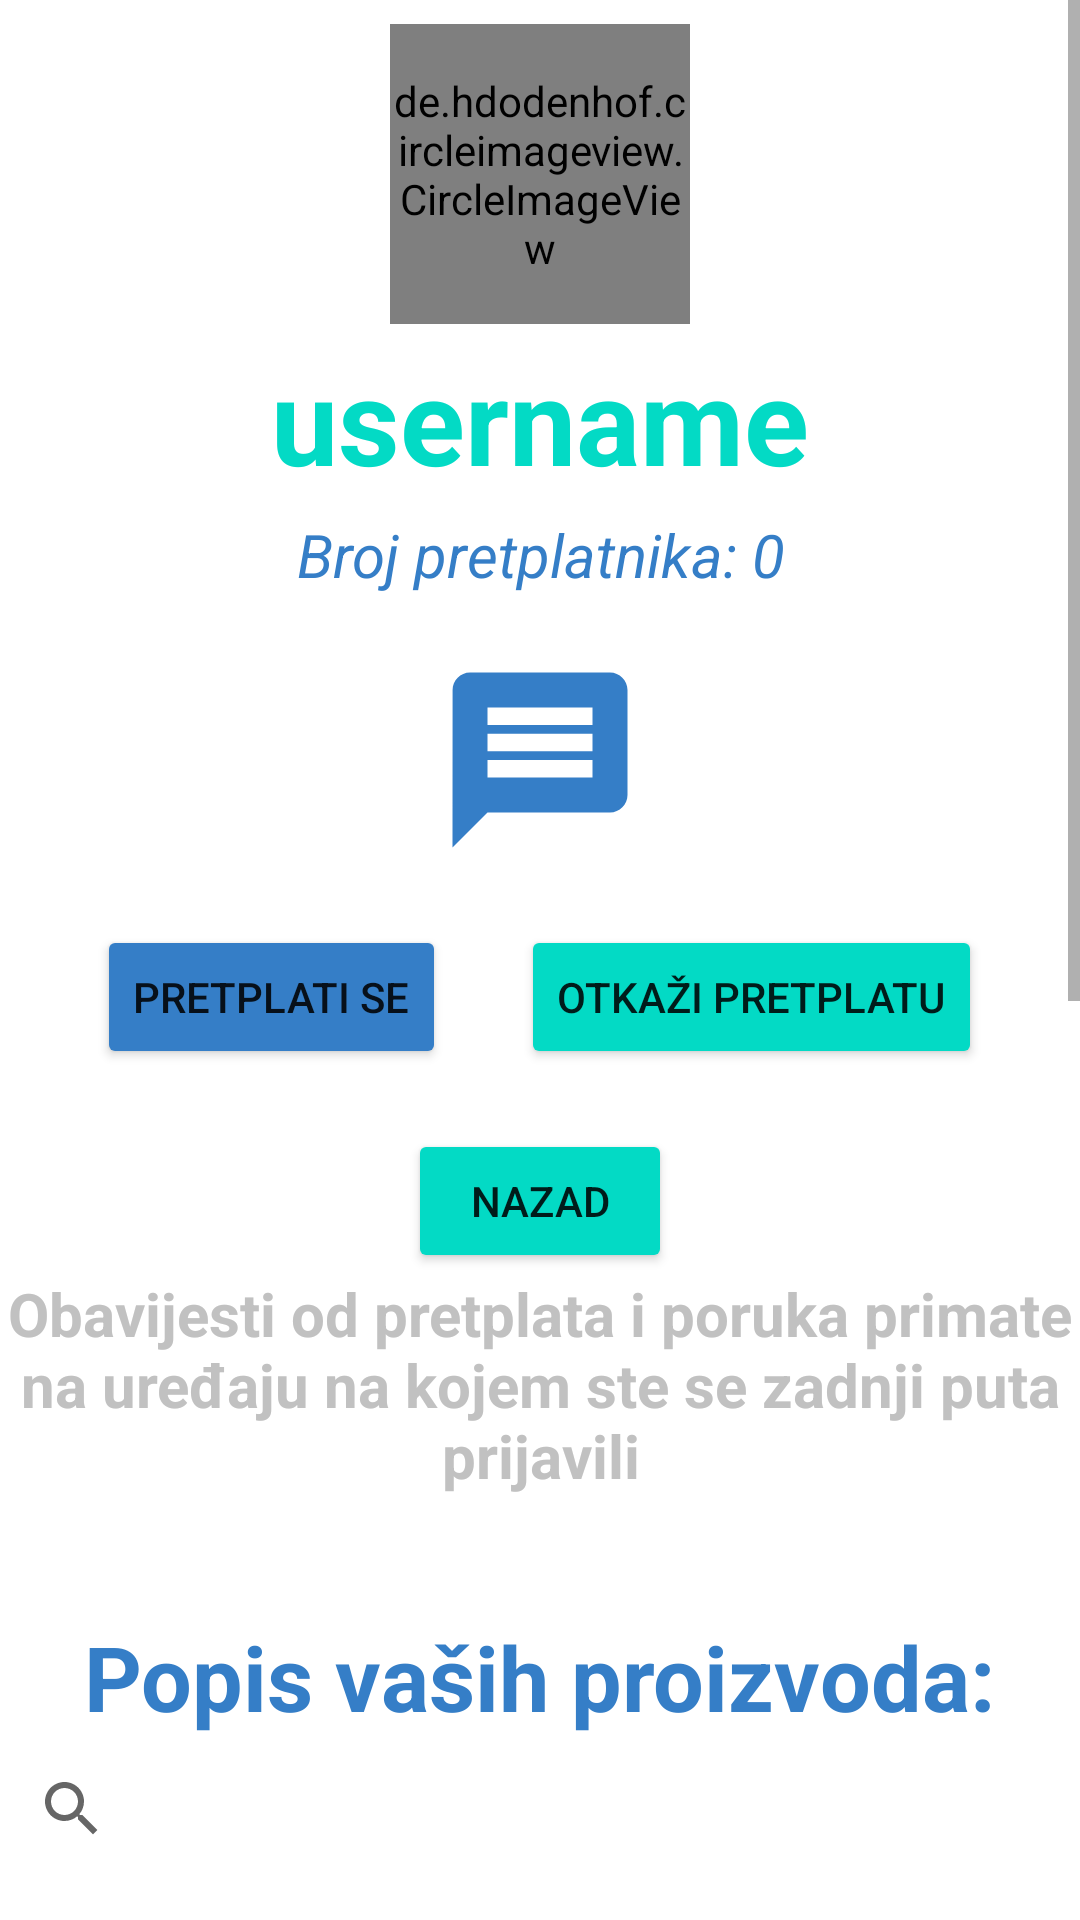

Locate icon controls on the screen. Image size 1080w x 1920h, boxes as (x1, y1, x2, y2).
message: (452, 672, 628, 848)
